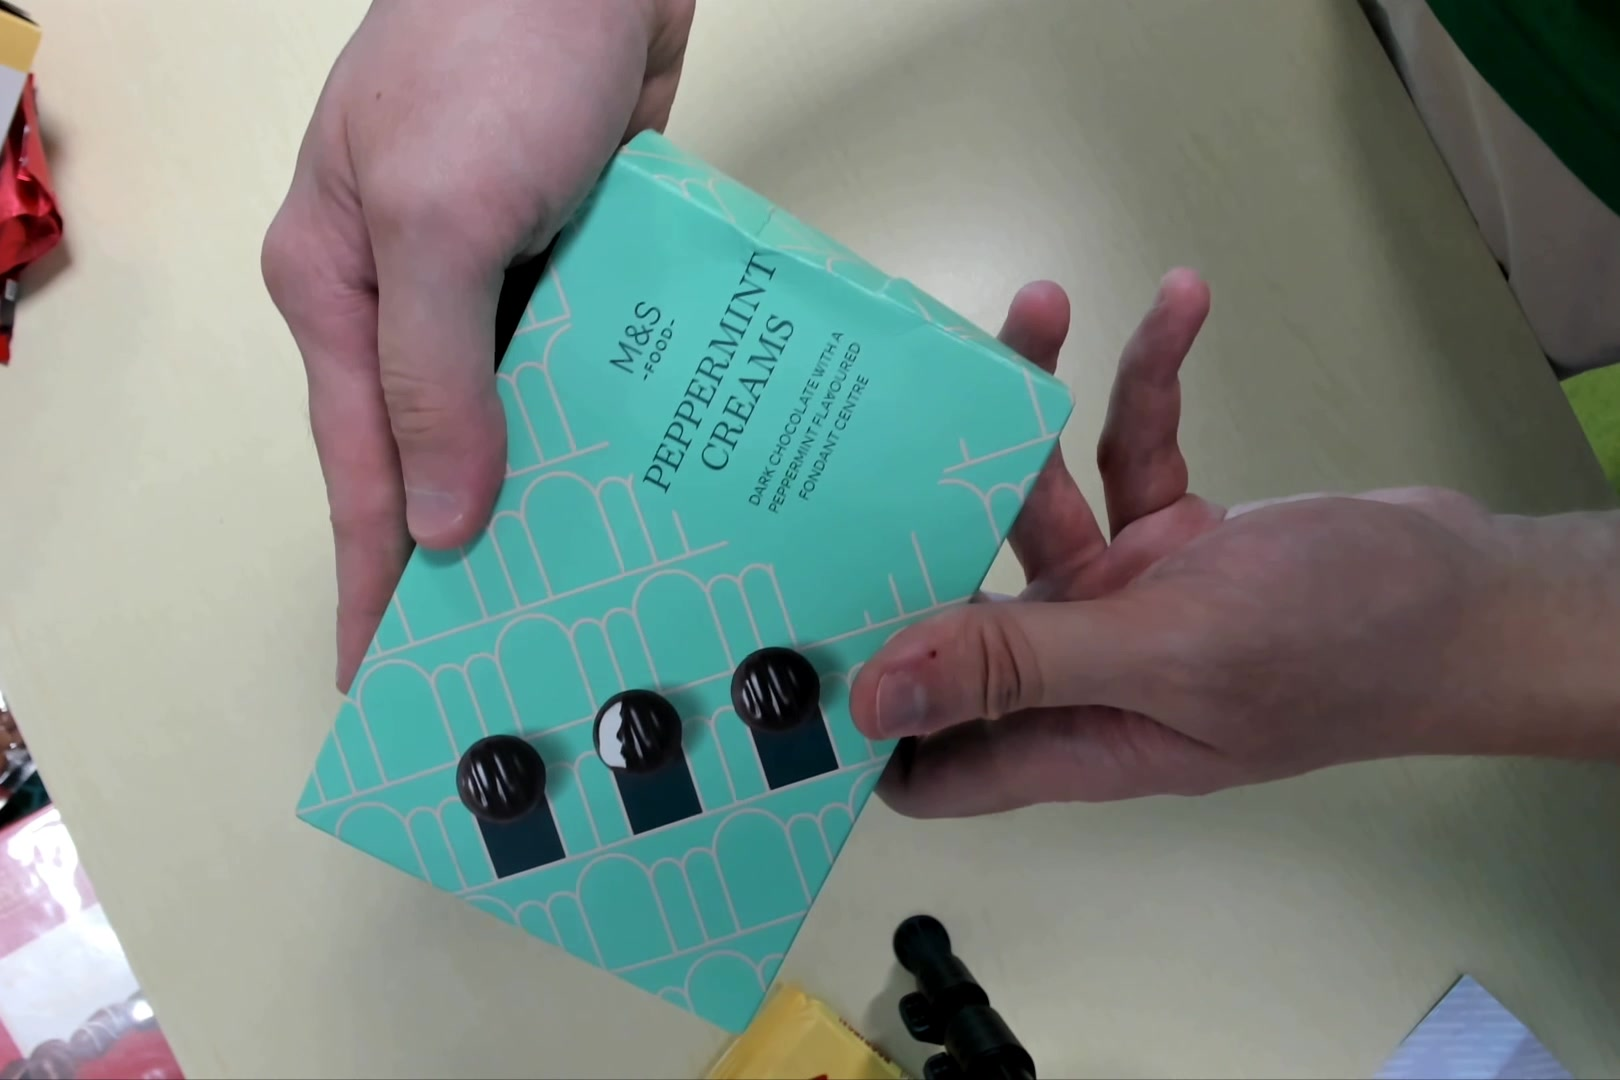SweetsChocolatesOthers_100-199g_NonHalal_NonHealthy: (305, 142, 1072, 1029)
